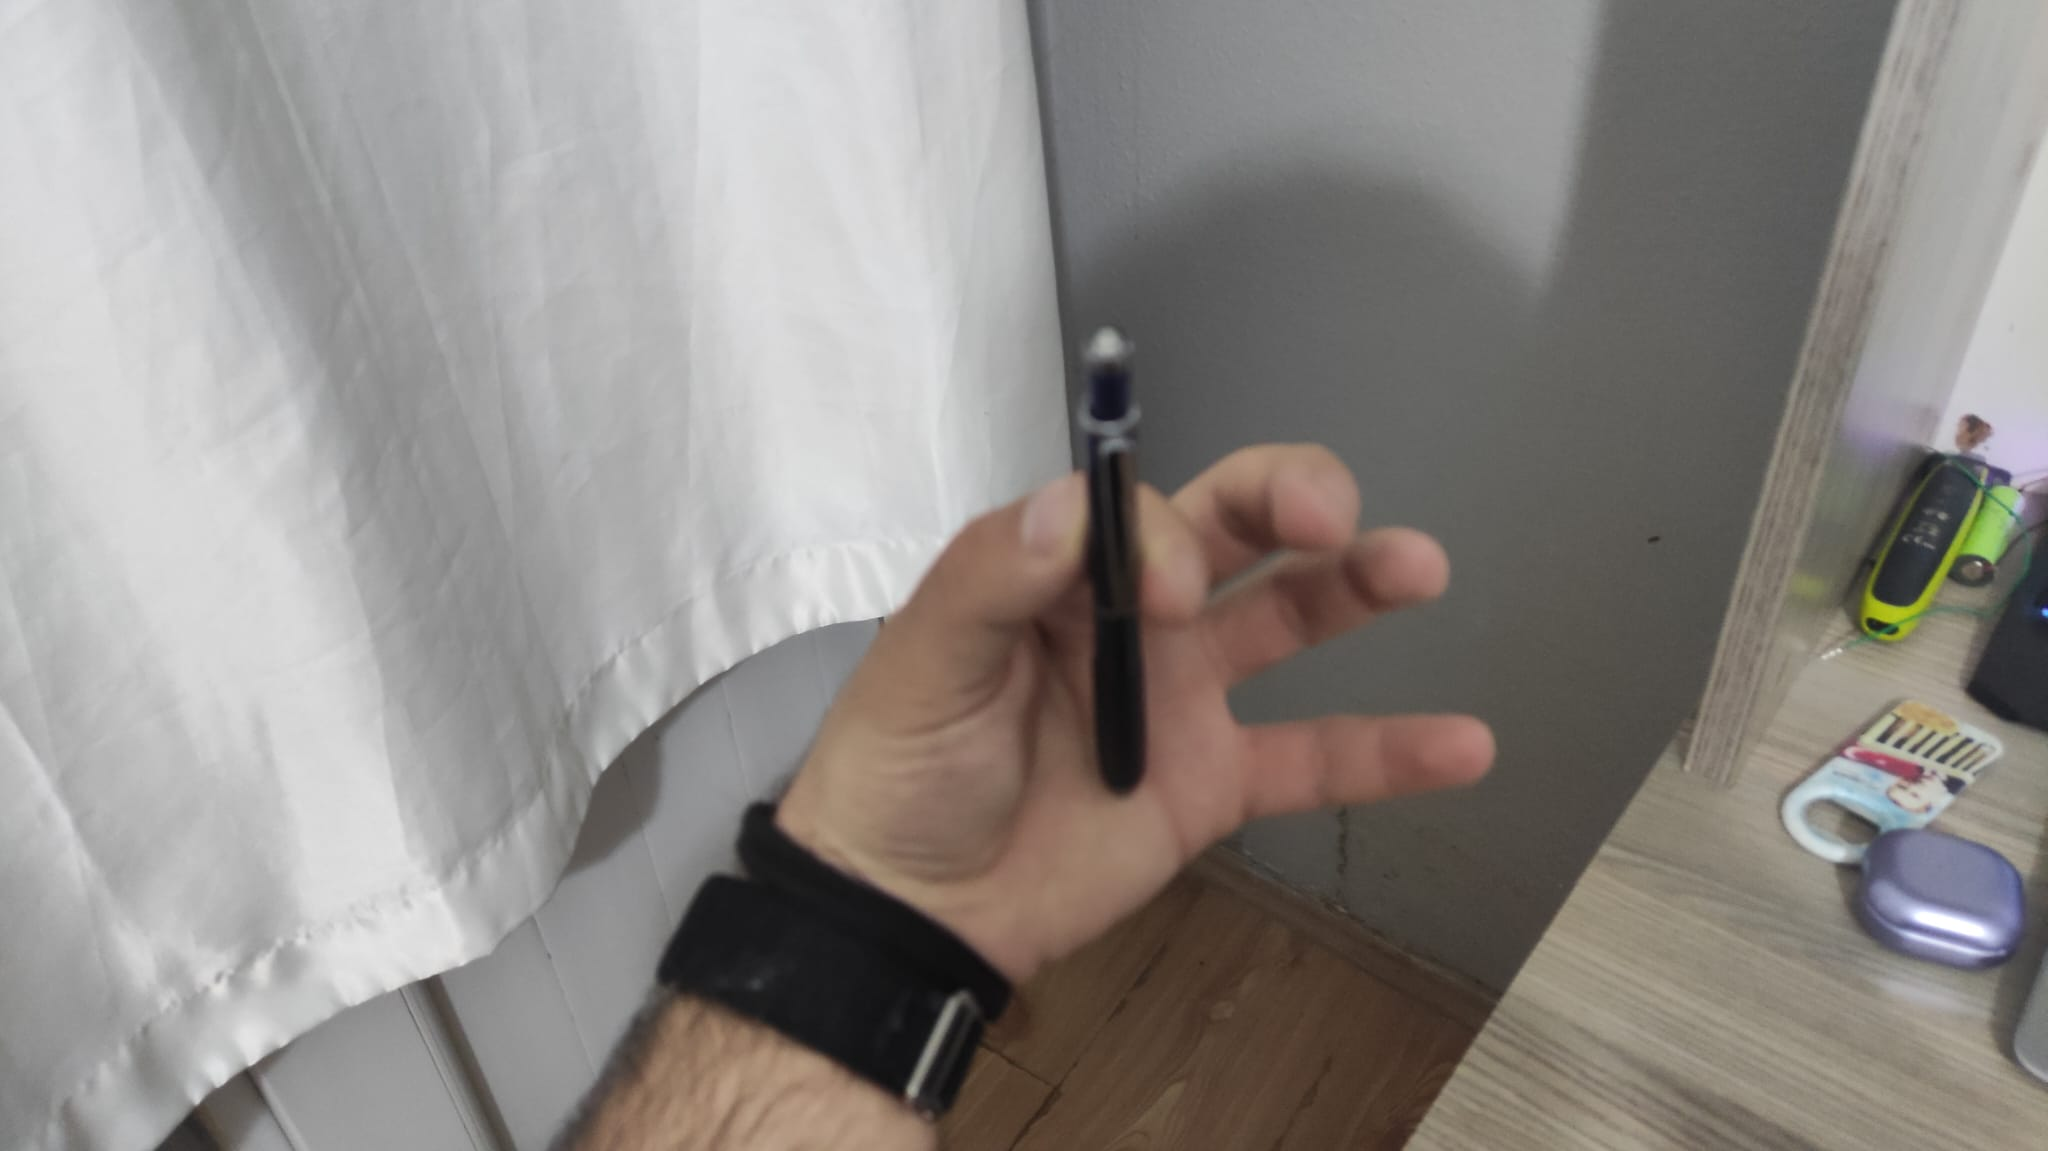kalem: (1069, 332, 1153, 799)
